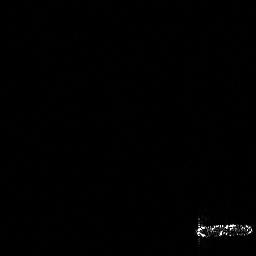ship: (194, 219, 256, 239)
